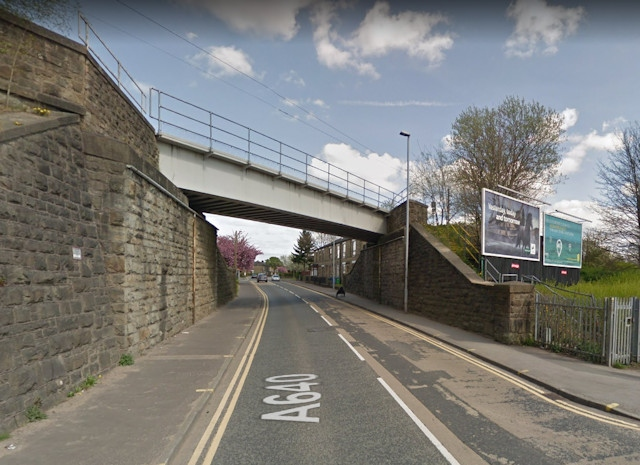bridge: (150, 87, 394, 246)
